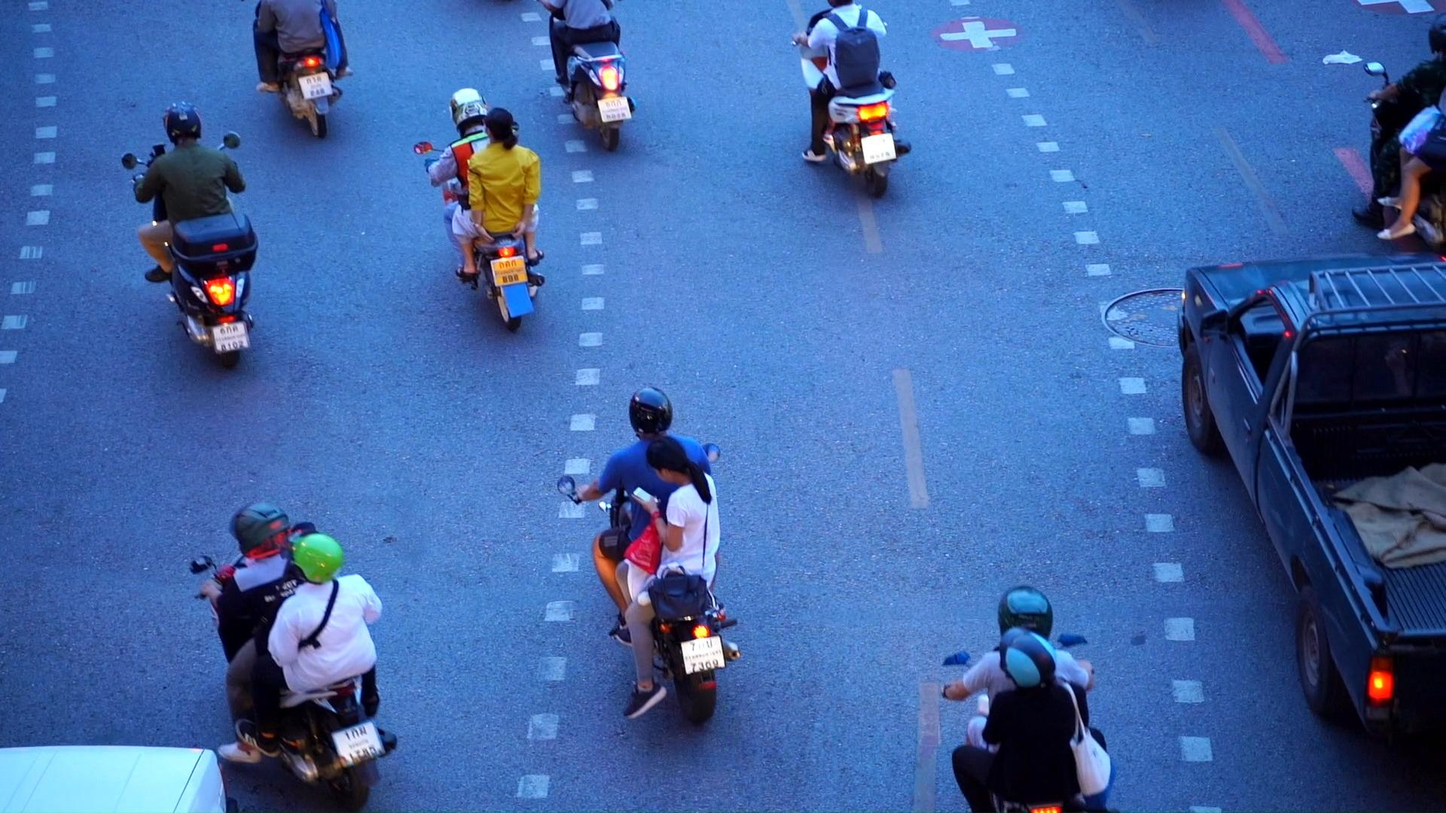driver: (189, 501, 399, 813), (556, 385, 743, 726), (940, 585, 1118, 813), (121, 100, 259, 370), (412, 88, 545, 331), (790, 0, 910, 200), (1351, 11, 1446, 254), (534, 0, 640, 150), (253, 0, 353, 138)
helmet: (999, 626, 1057, 692), (229, 501, 290, 559), (280, 529, 343, 585), (997, 585, 1053, 641), (628, 385, 673, 440), (449, 88, 488, 133), (162, 101, 201, 145), (1428, 12, 1446, 55)
no-helmet: (646, 435, 711, 486), (482, 107, 518, 151)
